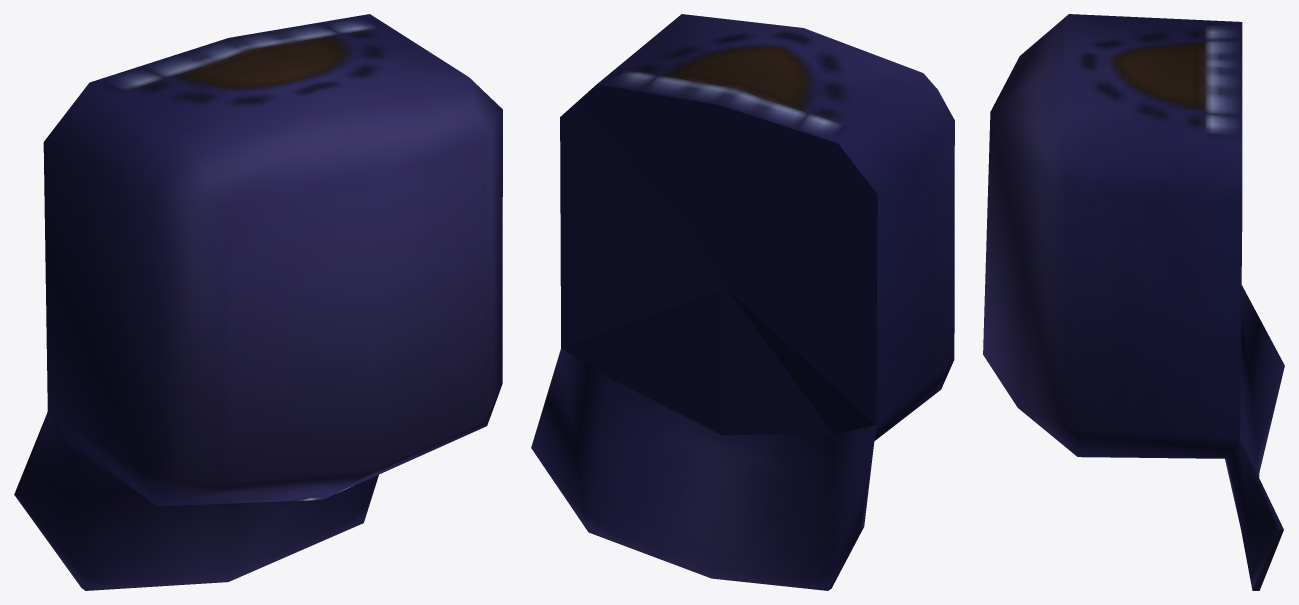
The model's file is Avatar_Mike_H_01_1_8be525c4__Avatar_Mike_B_01_684cbd32_c1f257.obj.
3 views of the same model, side by side, from view 1: azimuth 30°, elevation 25°; view 2: azimuth 150°, elevation 25°; view 3: azimuth 270°, elevation 25° (orthographic). The views are drawn at different scales.
Size of the model in its own units: 0.741 by 1.04 by 0.5763.
1 material, 1 textured.
